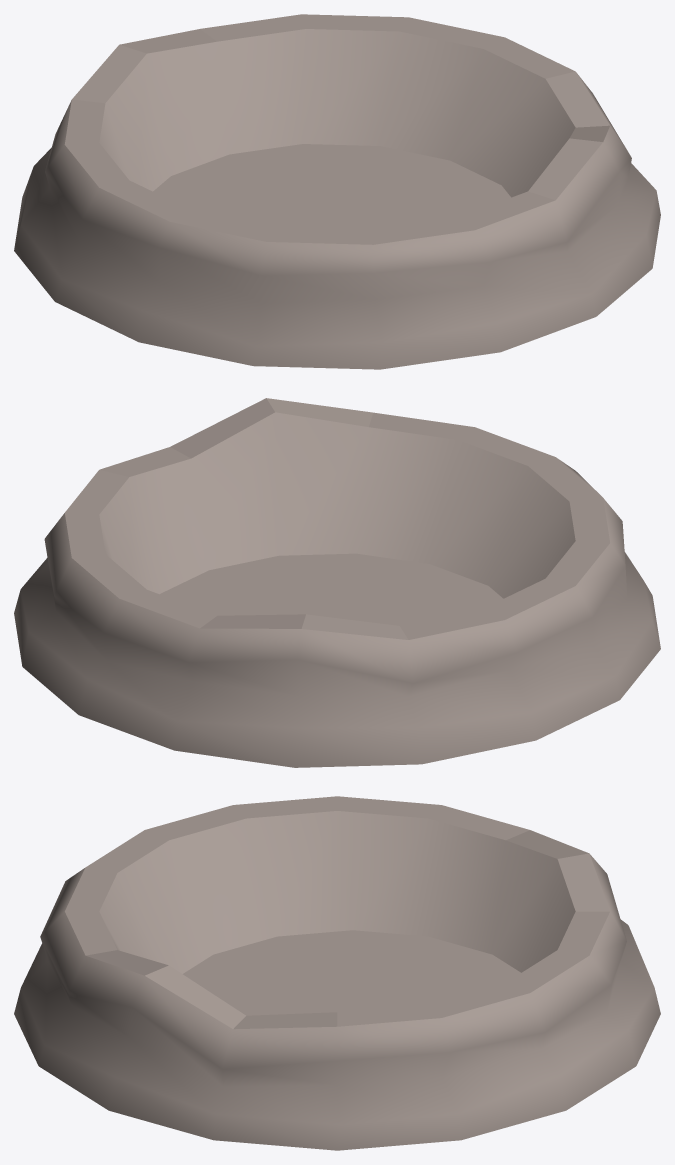
File: SM_Crater_Inaccessible_Var1.fbx
3 views of the same model, one above another, from view 1: azimuth 30°, elevation 25°; view 2: azimuth 150°, elevation 25°; view 3: azimuth 270°, elevation 25° (orthographic).
Parts seen in each view (by area): view 1: SM_Crater_Inaccessible_Var1; view 2: SM_Crater_Inaccessible_Var1; view 3: SM_Crater_Inaccessible_Var1.
Part boxes in pixels (x1=…): SM_Crater_Inaccessible_Var1: x1=14, y1=14, x2=660, y2=369; SM_Crater_Inaccessible_Var1: x1=14, y1=398, x2=660, y2=767; SM_Crater_Inaccessible_Var1: x1=14, y1=796, x2=660, y2=1150.
Bounding box in the file's own units: 1358 × 277 × 1358.
